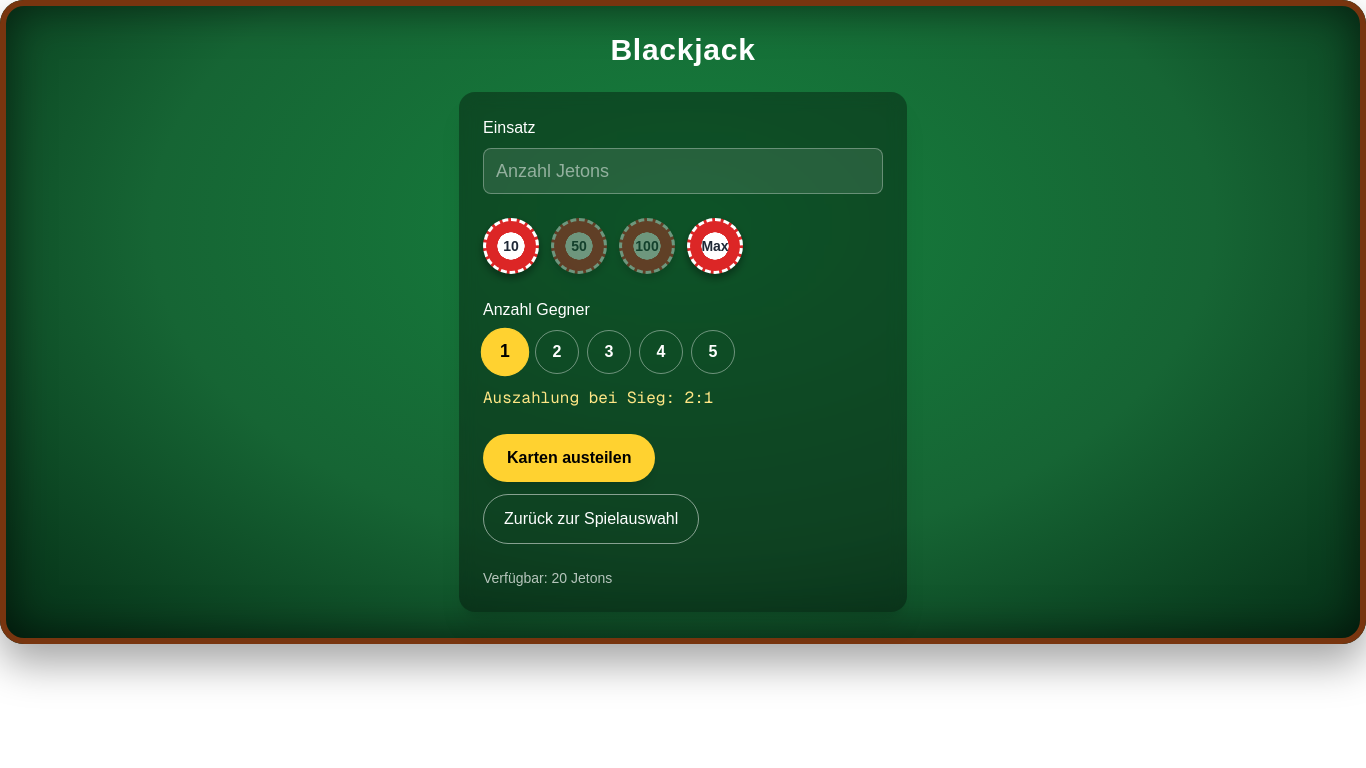
Test: BlackjackGame: Einsatz und Gegnerzahl › lehnt einen Einsatz ueber dem Guthaben mit Hinweis ab
Type "50" into the field labelled "Einsatz" at [683, 171], box [483,148,883,194]
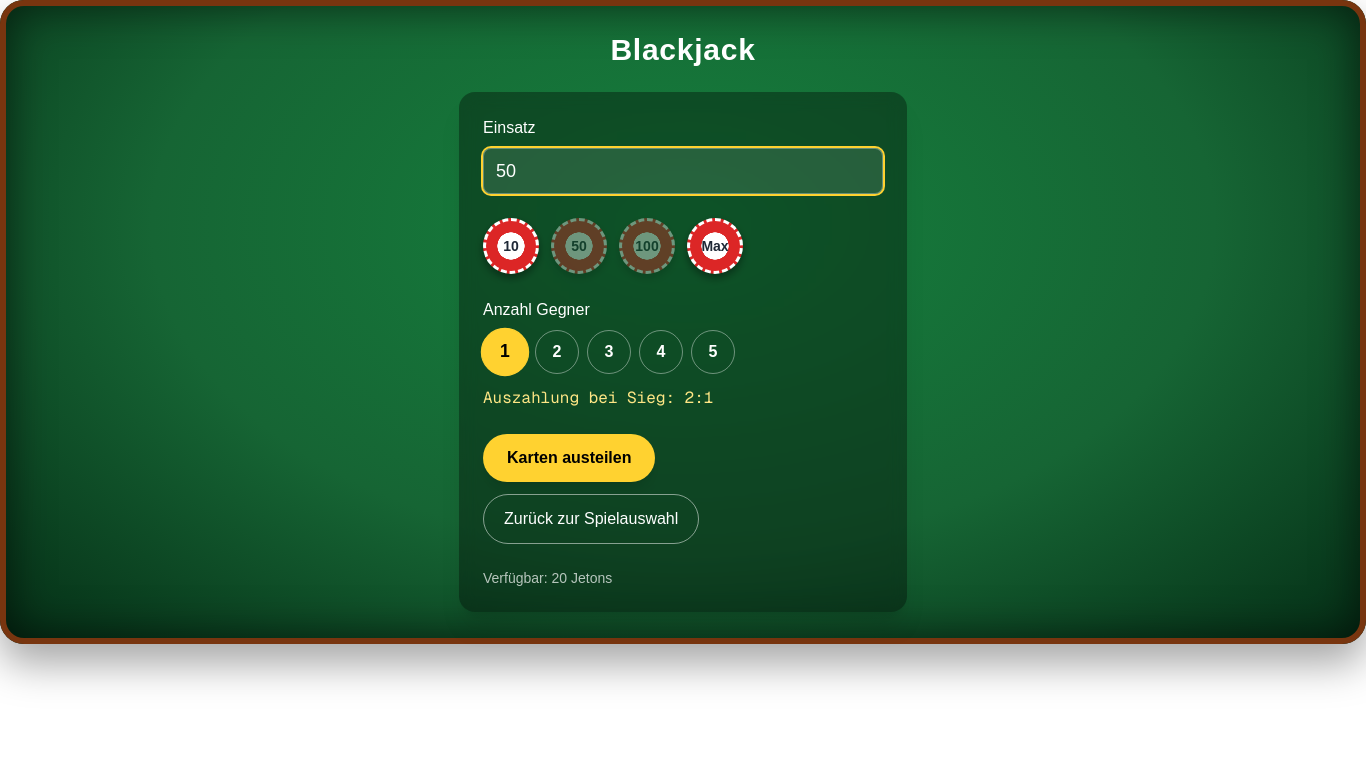
Click the radio button named "1 Gegner" at [505, 352], box [483,330,527,374]
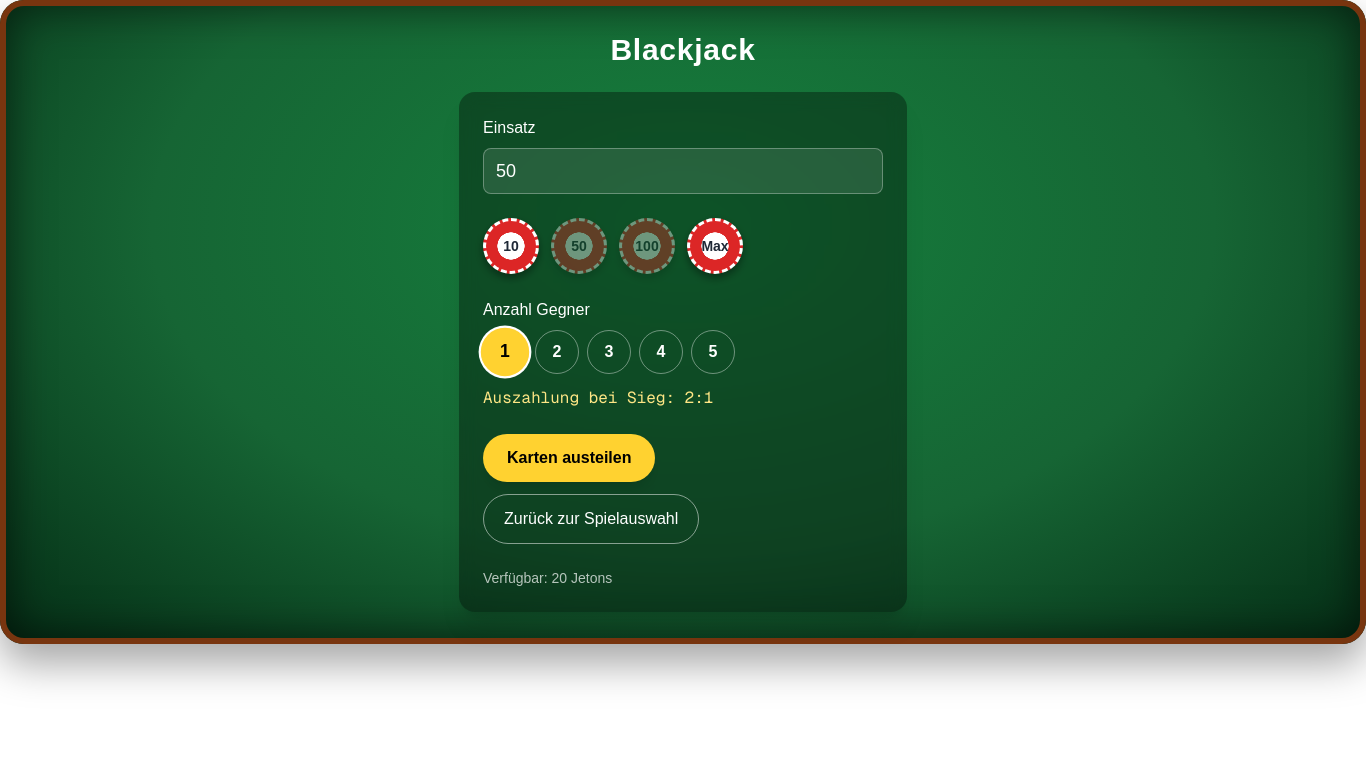
Click the button "Karten austeilen" at [569, 458], box [483,434,656,482]
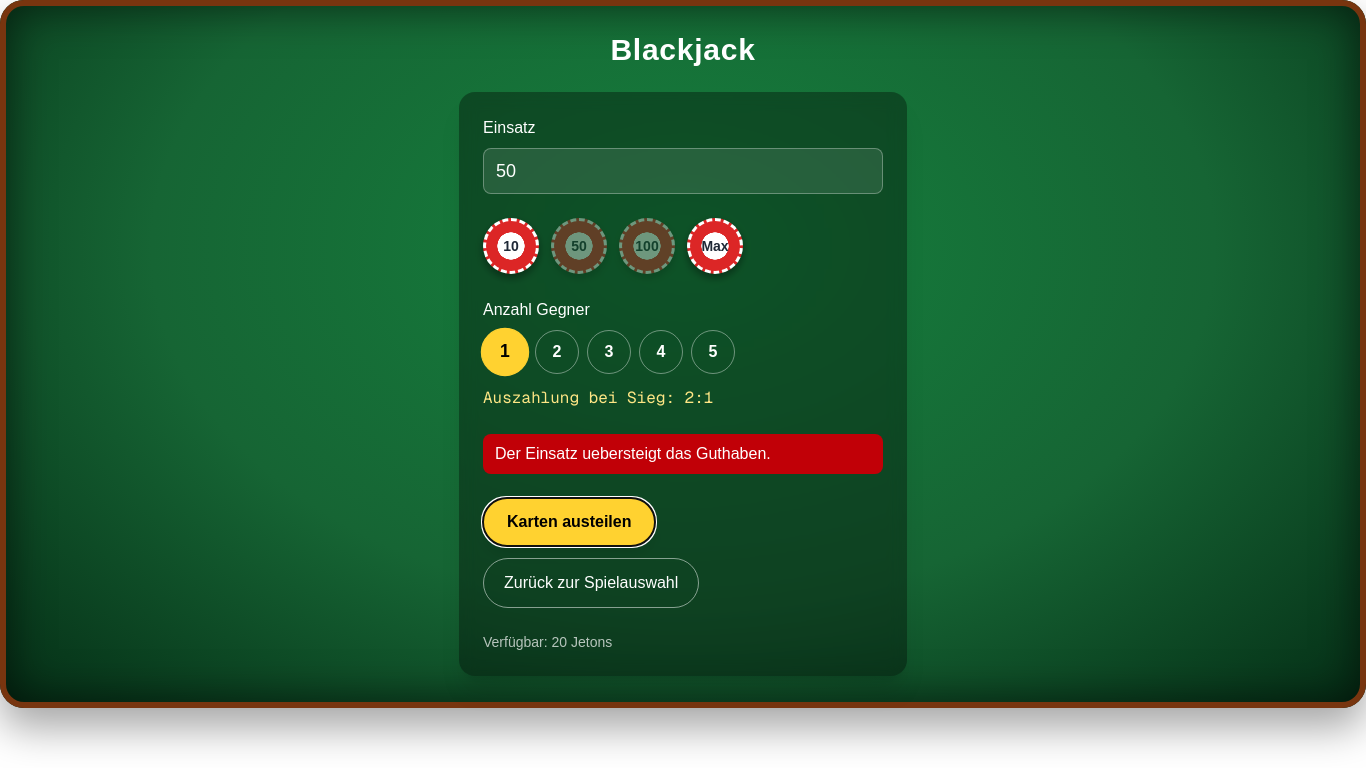
Result: the message reads "Der Einsatz uebersteigt das Guthaben." at [495,445,771,462]
